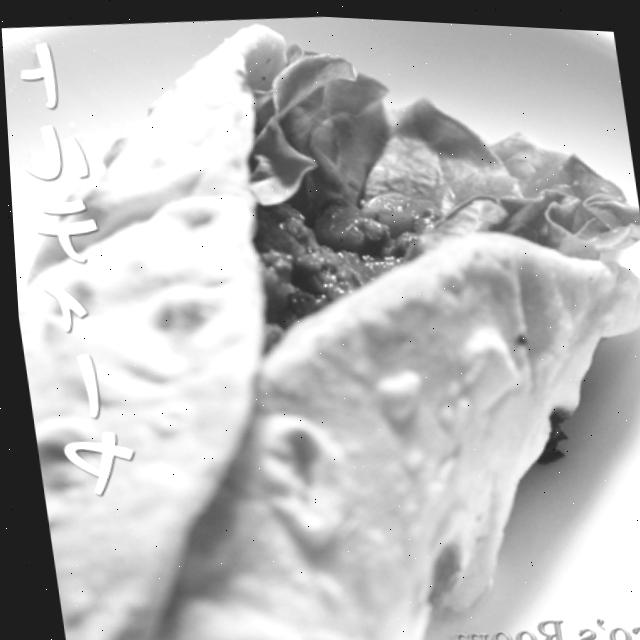面包点心: (1, 15, 640, 640)
